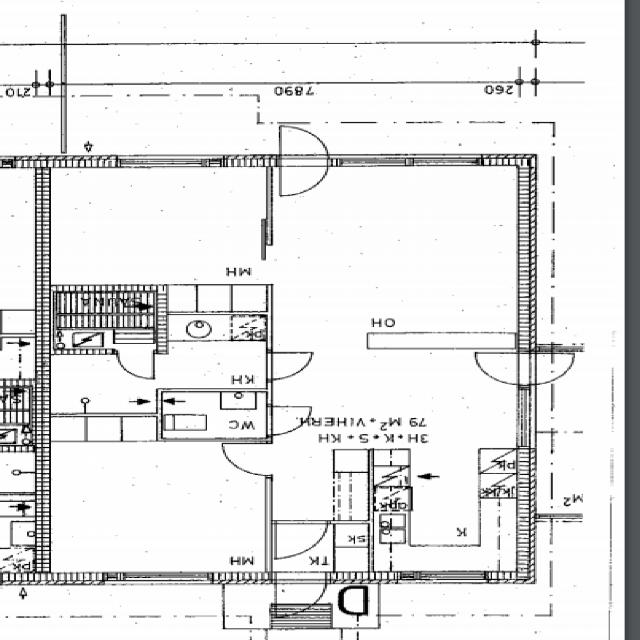door: (276, 571, 327, 618), (280, 155, 329, 201), (520, 353, 587, 386), (471, 353, 538, 386), (280, 122, 329, 167), (276, 520, 328, 559), (218, 444, 272, 476), (266, 352, 313, 380), (266, 407, 313, 434), (114, 348, 153, 380)
